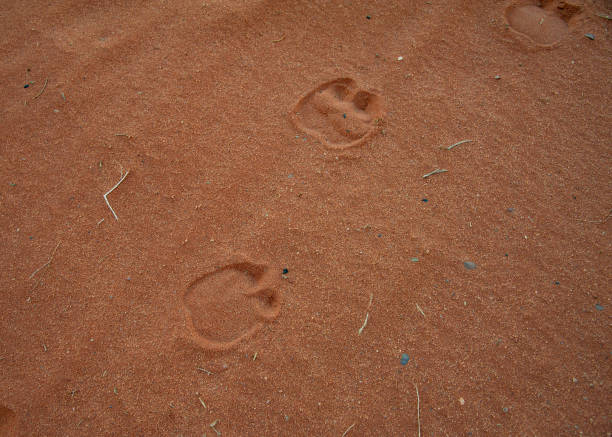animal_foot_print: (183, 261, 280, 349), (290, 78, 383, 148), (505, 0, 581, 46), (0, 405, 17, 435)
